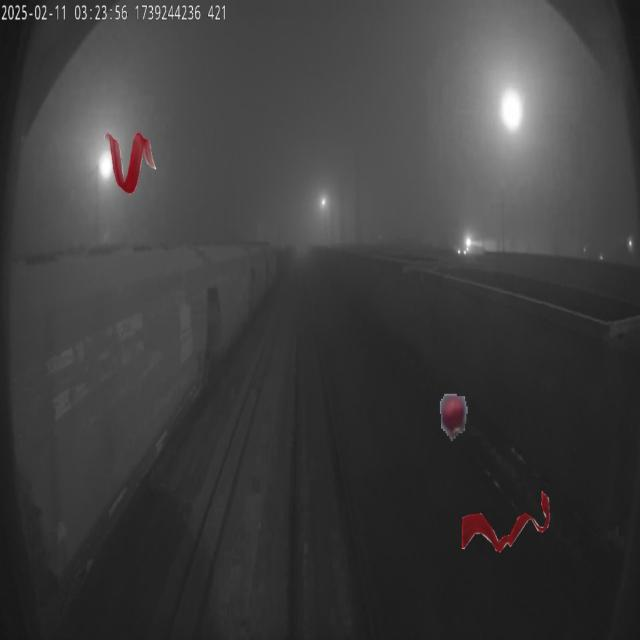balloon: (433, 388, 472, 452)
floating object: (460, 489, 550, 554), (103, 130, 157, 194)
